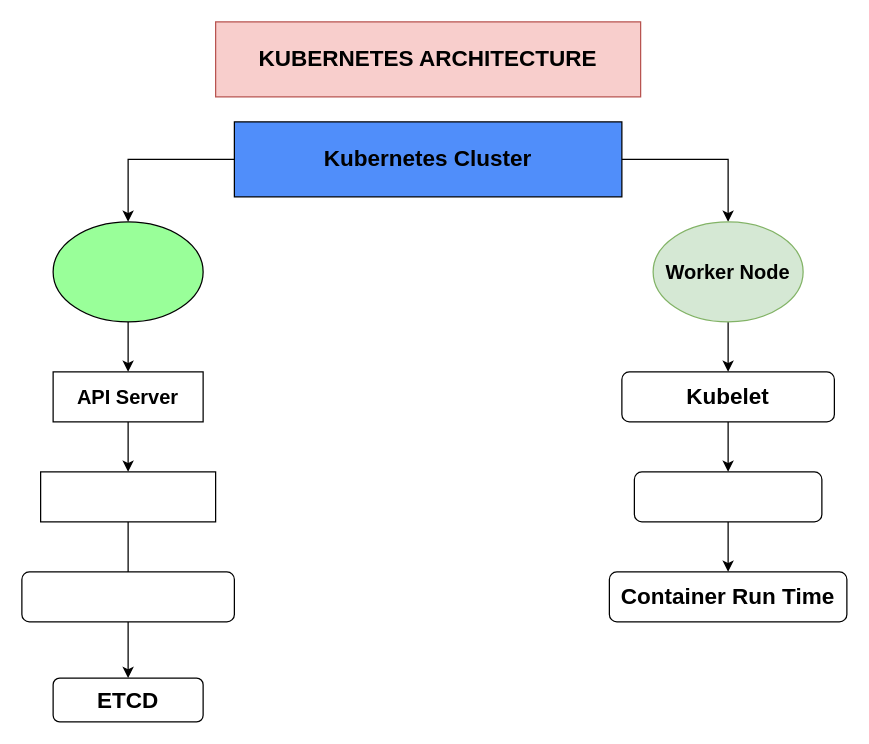
The diagram is 869 pixels wide and 744 high, and some of its shapes have lost their labels. Here are the shapes that lost their labels. From the top down, the box of each, then its label:
(52, 221, 203, 322): Master Node
(39, 471, 216, 522): Kube scheduler
(633, 471, 822, 522): Kube Proxy
(21, 571, 234, 622): Controller Manager
